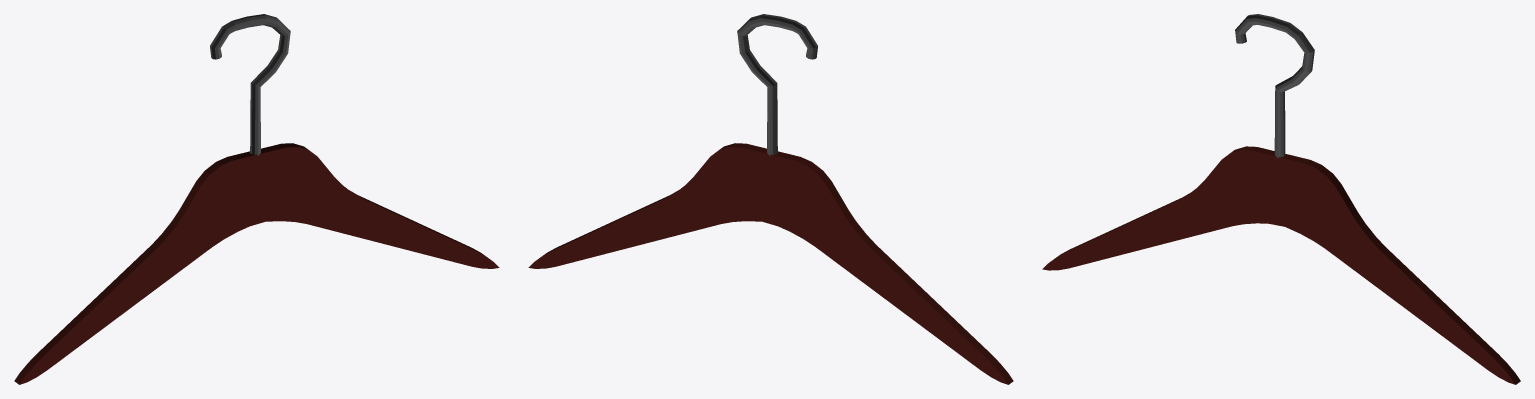
Rendered from Clothes Hanger 6.fbx.
3 views of the same model, side by side, from view 1: azimuth 30°, elevation 25°; view 2: azimuth 150°, elevation 25°; view 3: azimuth 330°, elevation 25° (orthographic).
Parts seen in each view (by area): view 1: Node 0; view 2: Node 0; view 3: Node 0.
Boxes of the visible parts, x1=… form: Node 0: x1=14, y1=14, x2=499, y2=384; Node 0: x1=528, y1=14, x2=1013, y2=384; Node 0: x1=1042, y1=14, x2=1520, y2=384.
Bounding box in the file's own units: 0.0164 × 0.5011 × 0.8136.
